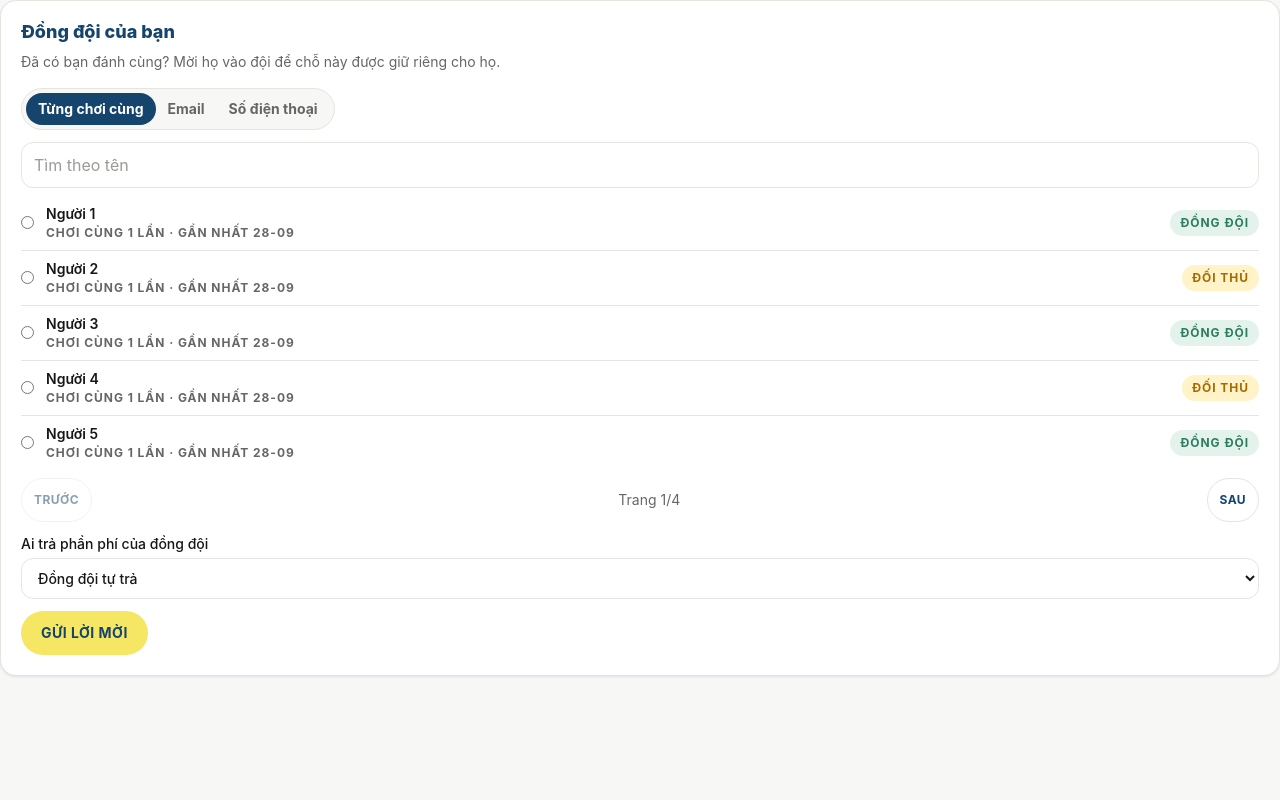
Test: phân trang 5 người mỗi trang, 4 trang cho 20 người
Expected: the text "Người 1" is shown, x1=46 y1=204 x2=95 y2=222
Expected: the number of radio buttons is 5, x1=21 y1=216 x2=34 y2=229; x1=21 y1=271 x2=34 y2=284; x1=21 y1=326 x2=34 y2=339; x1=21 y1=381 x2=34 y2=394; x1=21 y1=436 x2=34 y2=449
Step 1. Click the button "Sau" → (1233, 500), box x1=1206 y1=478 x2=1259 y2=522
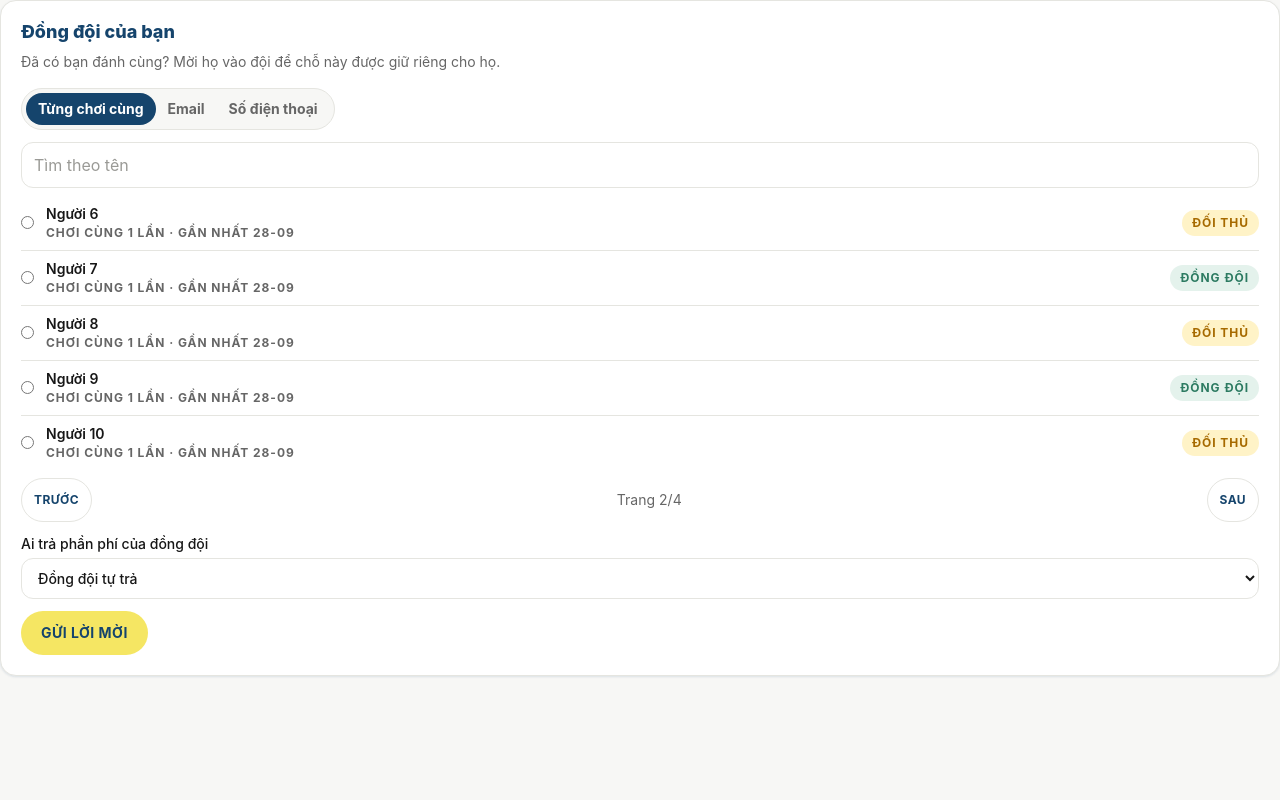
Step 2. Click the button "Sau" → (1233, 500), box x1=1206 y1=478 x2=1259 y2=522
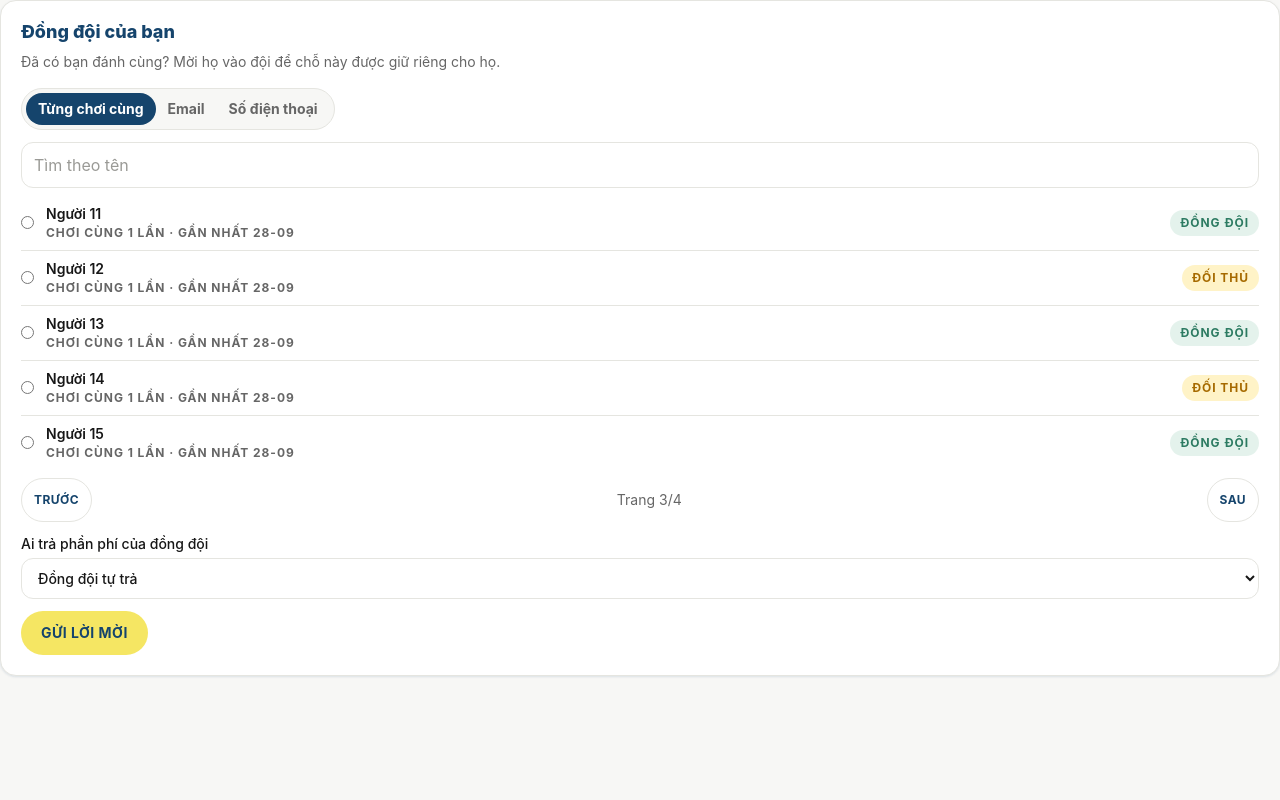
Step 3. Click the button "Sau" → (1233, 500), box x1=1206 y1=478 x2=1259 y2=522
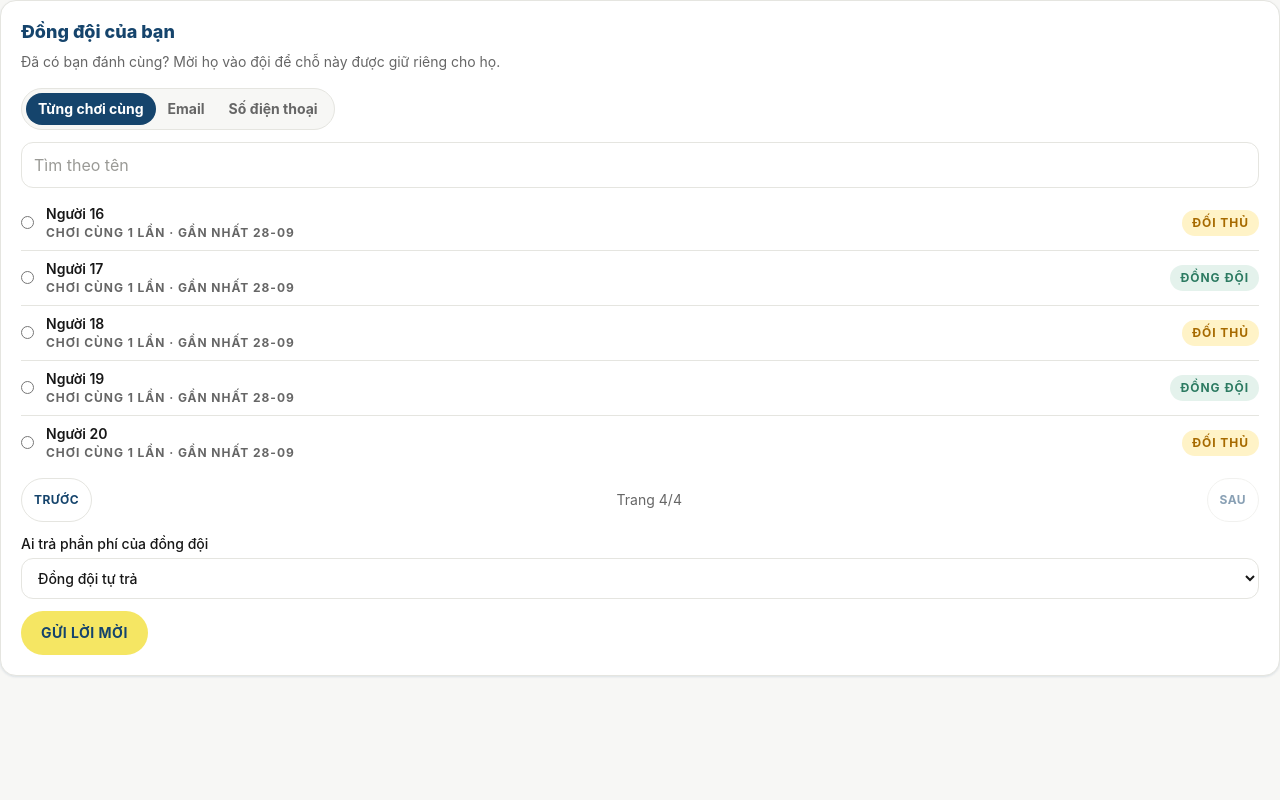
Expected: the text "Trang 4/4" is shown, x1=617 y1=490 x2=682 y2=510
Expected: the text "Người 20" is shown, x1=46 y1=424 x2=107 y2=442
Expected: the text "Người 15" is gone
